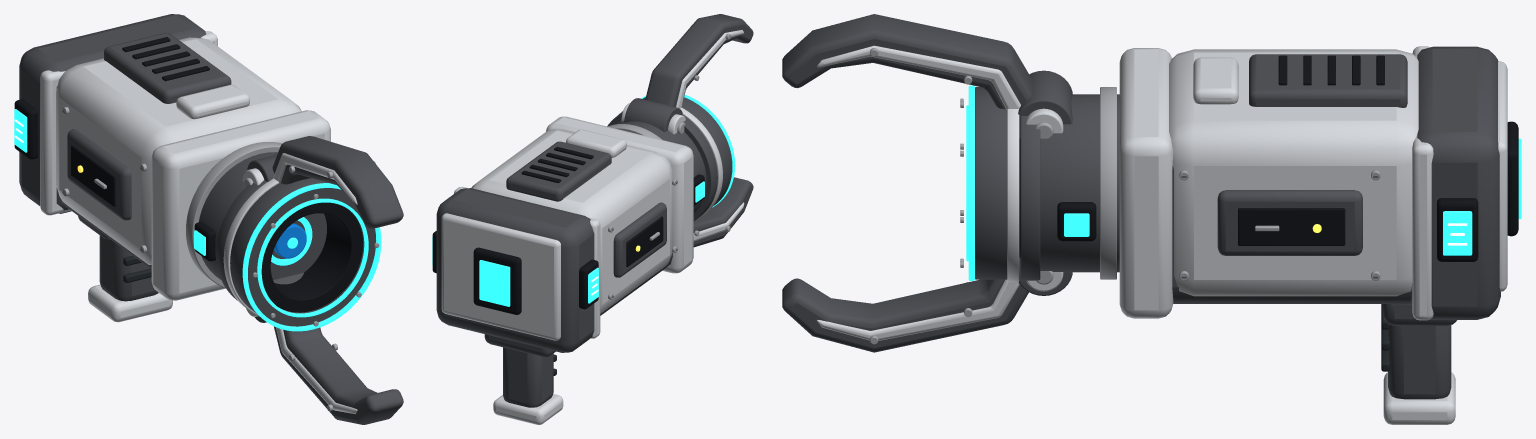
File: CubeEscape_PortalGun.glb
3 renders of one model, left to right at view 1: azimuth 30°, elevation 25°; view 2: azimuth 150°, elevation 25°; view 3: azimuth 270°, elevation 25°, orthographic. The views are drawn at different scales.
Parts seen in each view (by area): view 1: SM_PG_MainShell, SM_PG_FrontCuff, SM_PG_RearCuff, SM_PG_BoreLiner, SM_PG_EmitterOuterLip, SM_PG_UpperArmSpine, SM_PG_LowerArmSpine, SM_PG_TopServiceRail, SM_PG_EmitterNeck, SM_PG_RearBand, SM_PG_SidePanel_L, SM_PG_BarrelRearBand (+16 smaller); view 2: SM_PG_MainShell, SM_PG_RearEndArmor, SM_PG_RearCuff, SM_PG_FrontCuff, SM_PG_UpperArmSpine, SM_PG_TopServiceRail, SM_PG_Grip, SM_PG_RearDisplayBezel, SM_PG_LowerArmSpine, SM_PG_SidePanel_L, SM_PG_BarrelFrontBand, SM_PG_RearDisplay (+15 smaller); view 3: SM_PG_MainShell, SM_PG_RearCuff, SM_PG_FrontCuff, SM_PG_UpperArmSpine, SM_PG_LowerArmSpine, SM_PG_EmitterNeck, SM_PG_TopServiceRail, SM_PG_EmitterOuterLip, SM_PG_SidePanel_R, SM_PG_Grip, SM_PG_PanelInset_R, SM_PG_RearBand (+16 smaller).
Boxes of the visible parts, left/top/right/bottom form: SM_PG_MainShell: left=56, top=37, right=301, bottom=264; SM_PG_FrontCuff: left=151, top=110, right=330, bottom=300; SM_PG_RearCuff: left=19, top=14, right=206, bottom=213; SM_PG_BoreLiner: left=261, top=202, right=363, bottom=312; SM_PG_EmitterOuterLip: left=230, top=178, right=376, bottom=326; SM_PG_UpperArmSpine: left=272, top=136, right=403, bottom=228; SM_PG_LowerArmSpine: left=274, top=326, right=403, bottom=424; SM_PG_TopServiceRail: left=104, top=33, right=231, bottom=103; SM_PG_EmitterNeck: left=199, top=152, right=326, bottom=279; SM_PG_RearBand: left=40, top=31, right=217, bottom=215; SM_PG_SidePanel_L: left=67, top=129, right=131, bottom=220; SM_PG_BarrelRearBand: left=186, top=142, right=282, bottom=288; SM_PG_MainShell: left=471, top=129, right=673, bottom=313; SM_PG_RearEndArmor: left=441, top=213, right=560, bottom=340; SM_PG_RearCuff: left=436, top=188, right=594, bottom=352; SM_PG_FrontCuff: left=546, top=116, right=693, bottom=273; SM_PG_UpperArmSpine: left=645, top=14, right=753, bottom=106; SM_PG_TopServiceRail: left=506, top=141, right=611, bottom=201; SM_PG_Grip: left=503, top=347, right=553, bottom=407; SM_PG_RearDisplayBezel: left=473, top=247, right=521, bottom=314; SM_PG_LowerArmSpine: left=693, top=177, right=753, bottom=247; SM_PG_SidePanel_L: left=613, top=202, right=666, bottom=277; SM_PG_BarrelFrontBand: left=607, top=112, right=717, bottom=220; SM_PG_RearDisplay: left=479, top=260, right=510, bottom=306; SM_PG_MainShell: left=1169, top=49, right=1418, bottom=296; SM_PG_RearCuff: left=1410, top=46, right=1500, bottom=319; SM_PG_FrontCuff: left=1119, top=48, right=1173, bottom=318; SM_PG_UpperArmSpine: left=782, top=14, right=1032, bottom=109; SM_PG_LowerArmSpine: left=782, top=278, right=1028, bottom=352; SM_PG_EmitterNeck: left=1040, top=94, right=1120, bottom=272; SM_PG_TopServiceRail: left=1249, top=54, right=1407, bottom=107; SM_PG_EmitterOuterLip: left=975, top=87, right=1007, bottom=279; SM_PG_SidePanel_R: left=1217, top=190, right=1362, bottom=255; SM_PG_Grip: left=1388, top=325, right=1451, bottom=399; SM_PG_PanelInset_R: left=1238, top=208, right=1345, bottom=245; SM_PG_RearBand: left=1412, top=46, right=1433, bottom=320.
Bounding box in the file's own units: 0.226 × 0.3505 × 0.6058.
